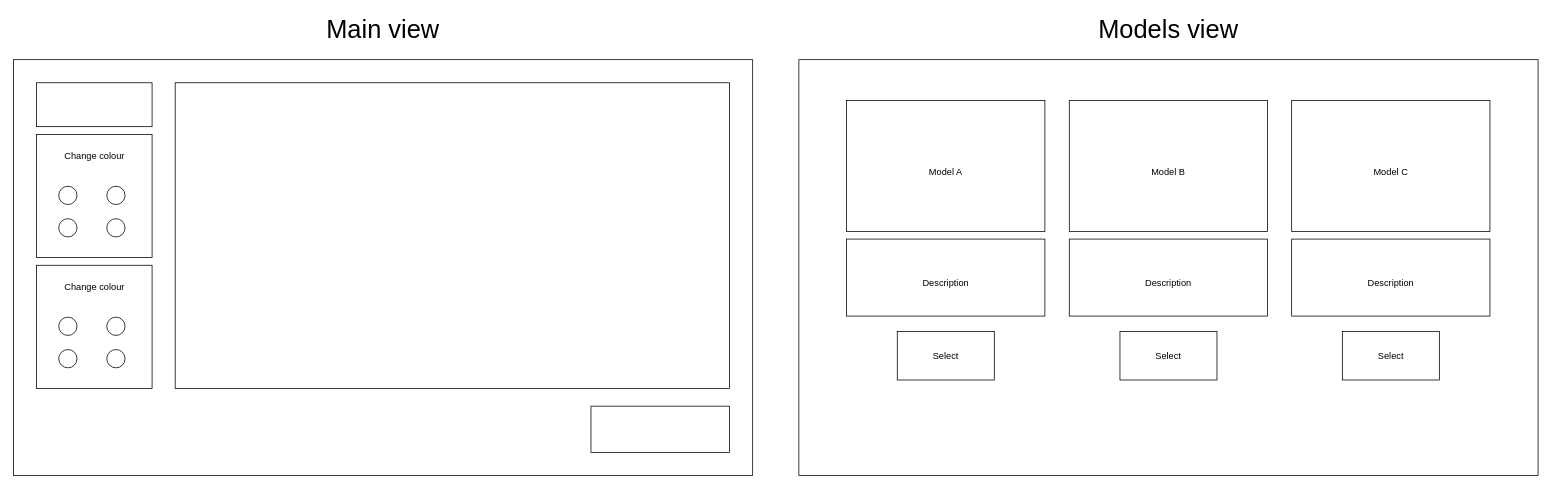
The diagram is 1552 pixels wide and 489 high, and some of its shapes have lost their labels. The shapes that lost their labels are listed below. From the top down, each one's centre as x and y in pixels, then its label:
At point (94, 104): "Change model".
At point (452, 235): "Car".
At point (660, 428): "Price".
